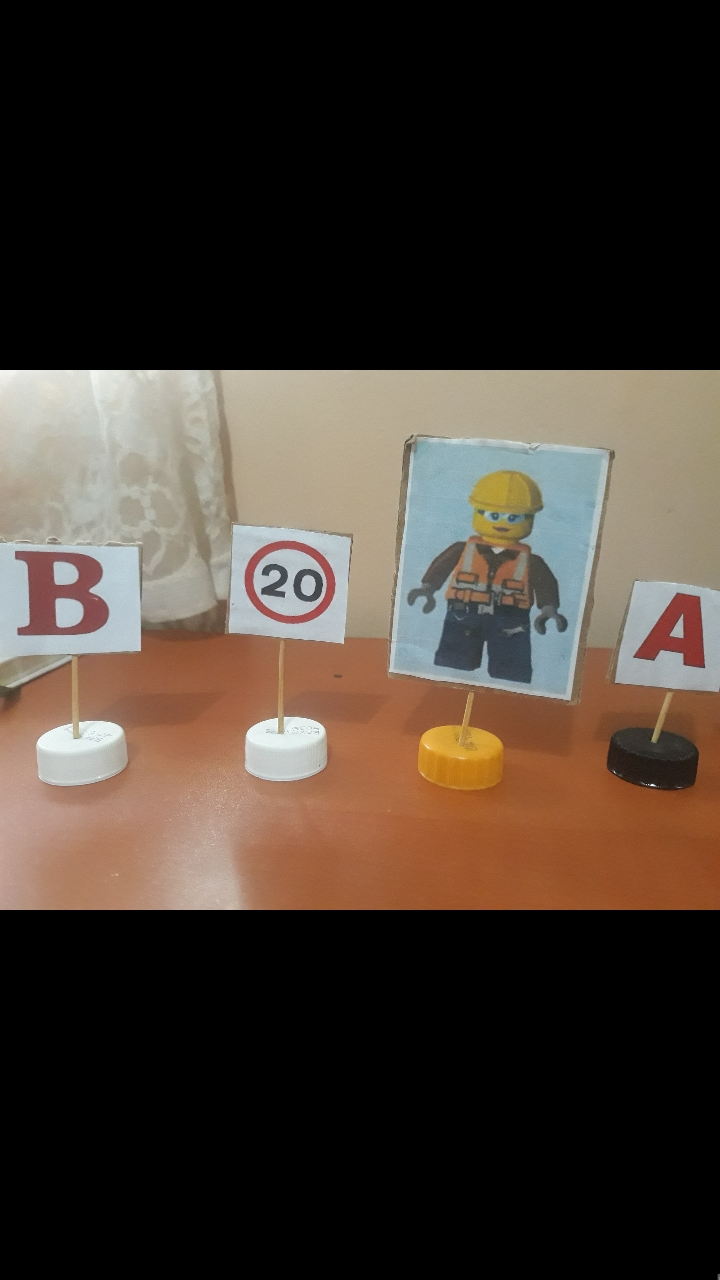20 kph: (234, 531, 350, 641)
pedestrian: (410, 445, 587, 706)
zone A: (636, 580, 714, 688)
zone B: (8, 539, 138, 649)
